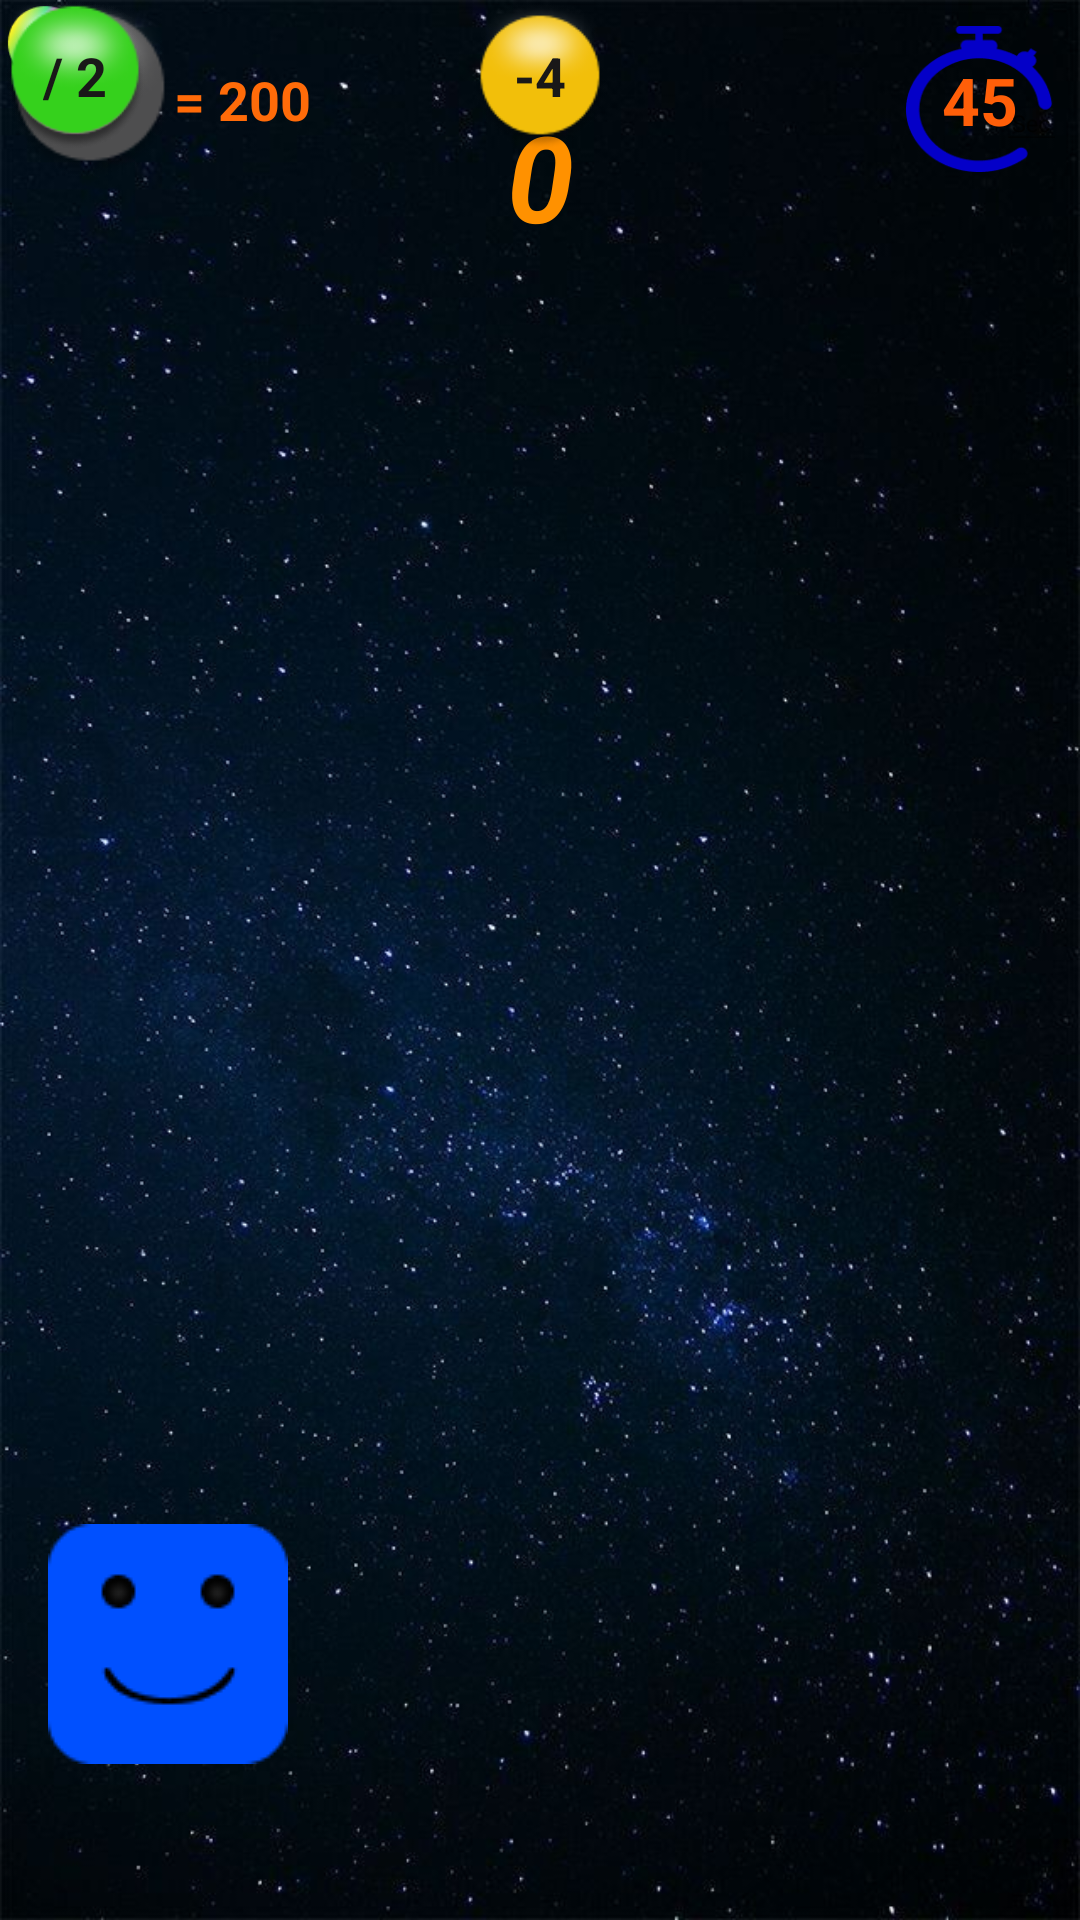

Icon click points for this 1080x1920 phone screenshot, format point (x, y):
timer: point (979, 99)
